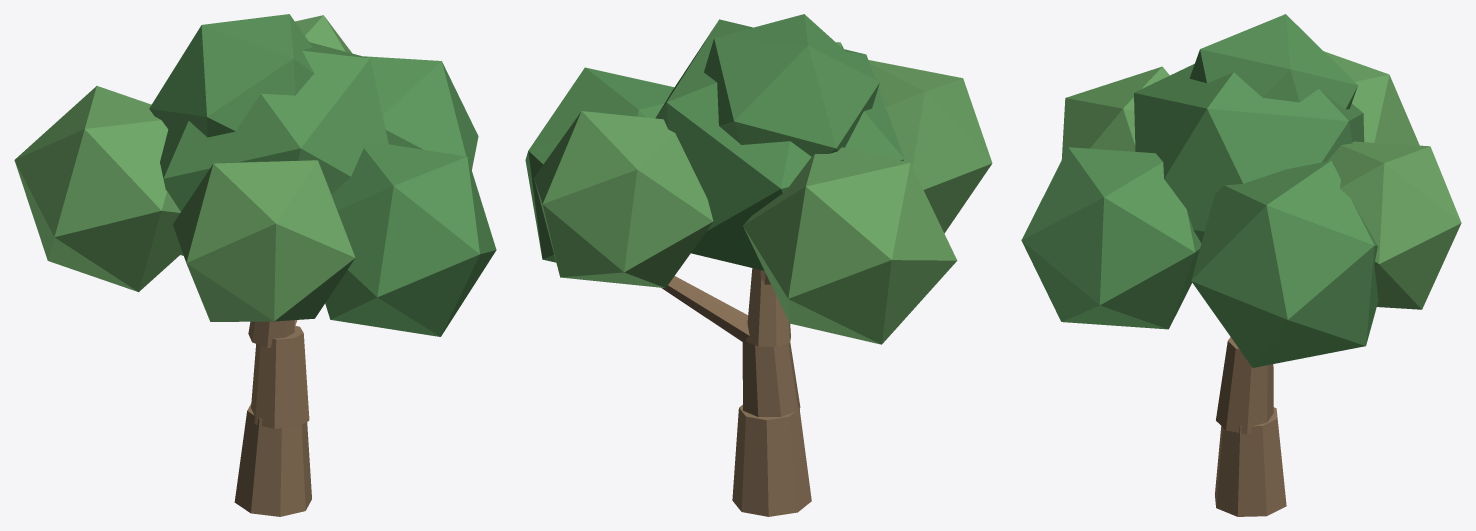
File: th4_eiche.glb
The picture shows the model from 3 angles, left to right: view 1: azimuth 30°, elevation 25°; view 2: azimuth 150°, elevation 25°; view 3: azimuth 270°, elevation 25°; orthographic projection. The views are drawn at different scales.
Parts seen in each view (by area): view 1: Eiche; view 2: Eiche; view 3: Eiche.
Boxes of the visible parts, x1,y1,x2,y2 form: Eiche: [14, 14, 496, 516]; Eiche: [525, 14, 992, 516]; Eiche: [1021, 14, 1461, 516].
Bounding box in the file's own units: 6.86 × 7.35 × 6.34.
